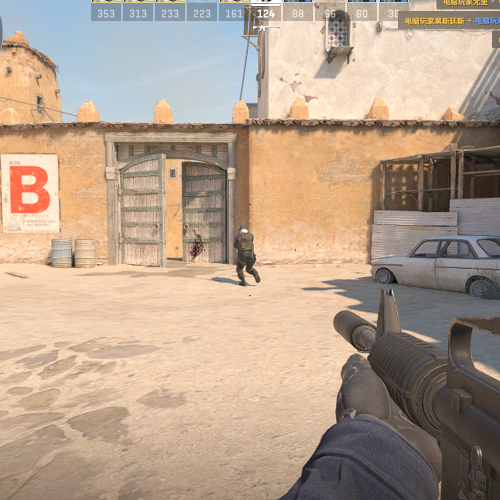ct_body: (233, 224, 261, 287)
ct_head: (238, 223, 250, 235)
